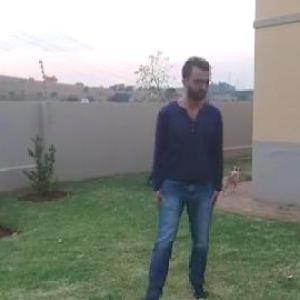follow: (136, 49, 228, 299)
